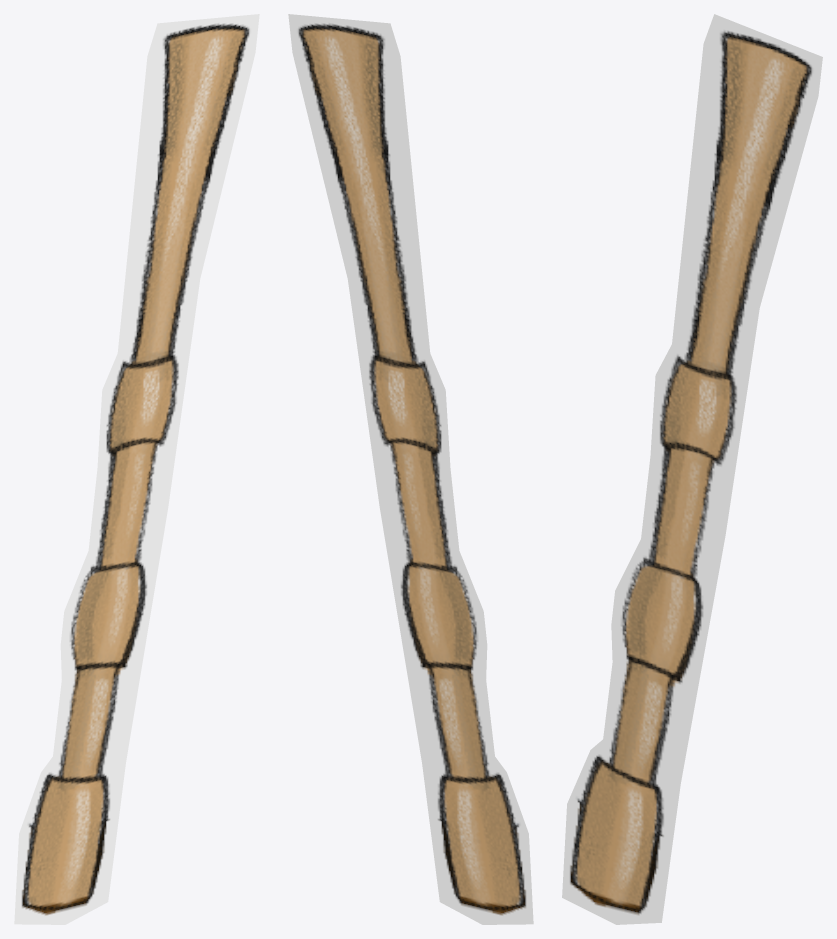
File: pistala_1.gltf
3 renders of one model, left to right at view 1: azimuth 30°, elevation 25°; view 2: azimuth 150°, elevation 25°; view 3: azimuth 330°, elevation 25°, orthographic. The views are drawn at different scales.
Visible parts, largest first — view 1: Plane.002; view 2: Plane.002; view 3: Plane.002.
Boxes of the visible parts, x1,y1,x2,y2 form: Plane.002: (14, 14, 259, 924); Plane.002: (288, 14, 533, 924); Plane.002: (562, 14, 822, 924).
Size of the model in its own units: 3.37 by 11.55 by 0.
1 material, 1 textured.
